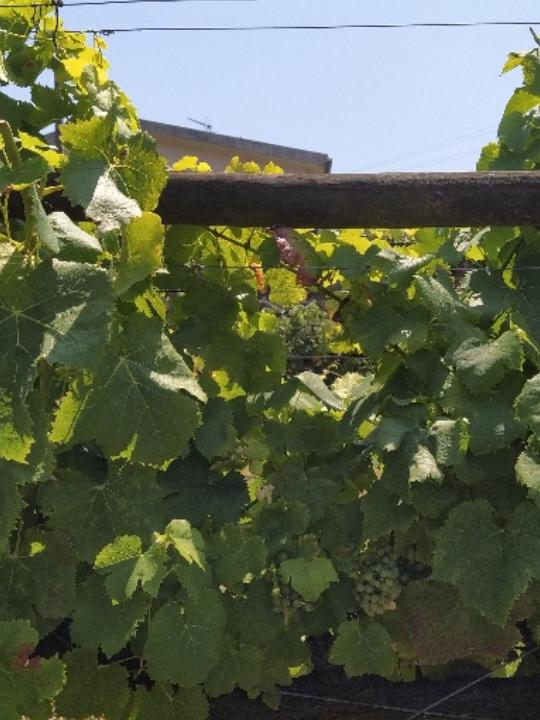grape: (342, 542, 405, 618)
